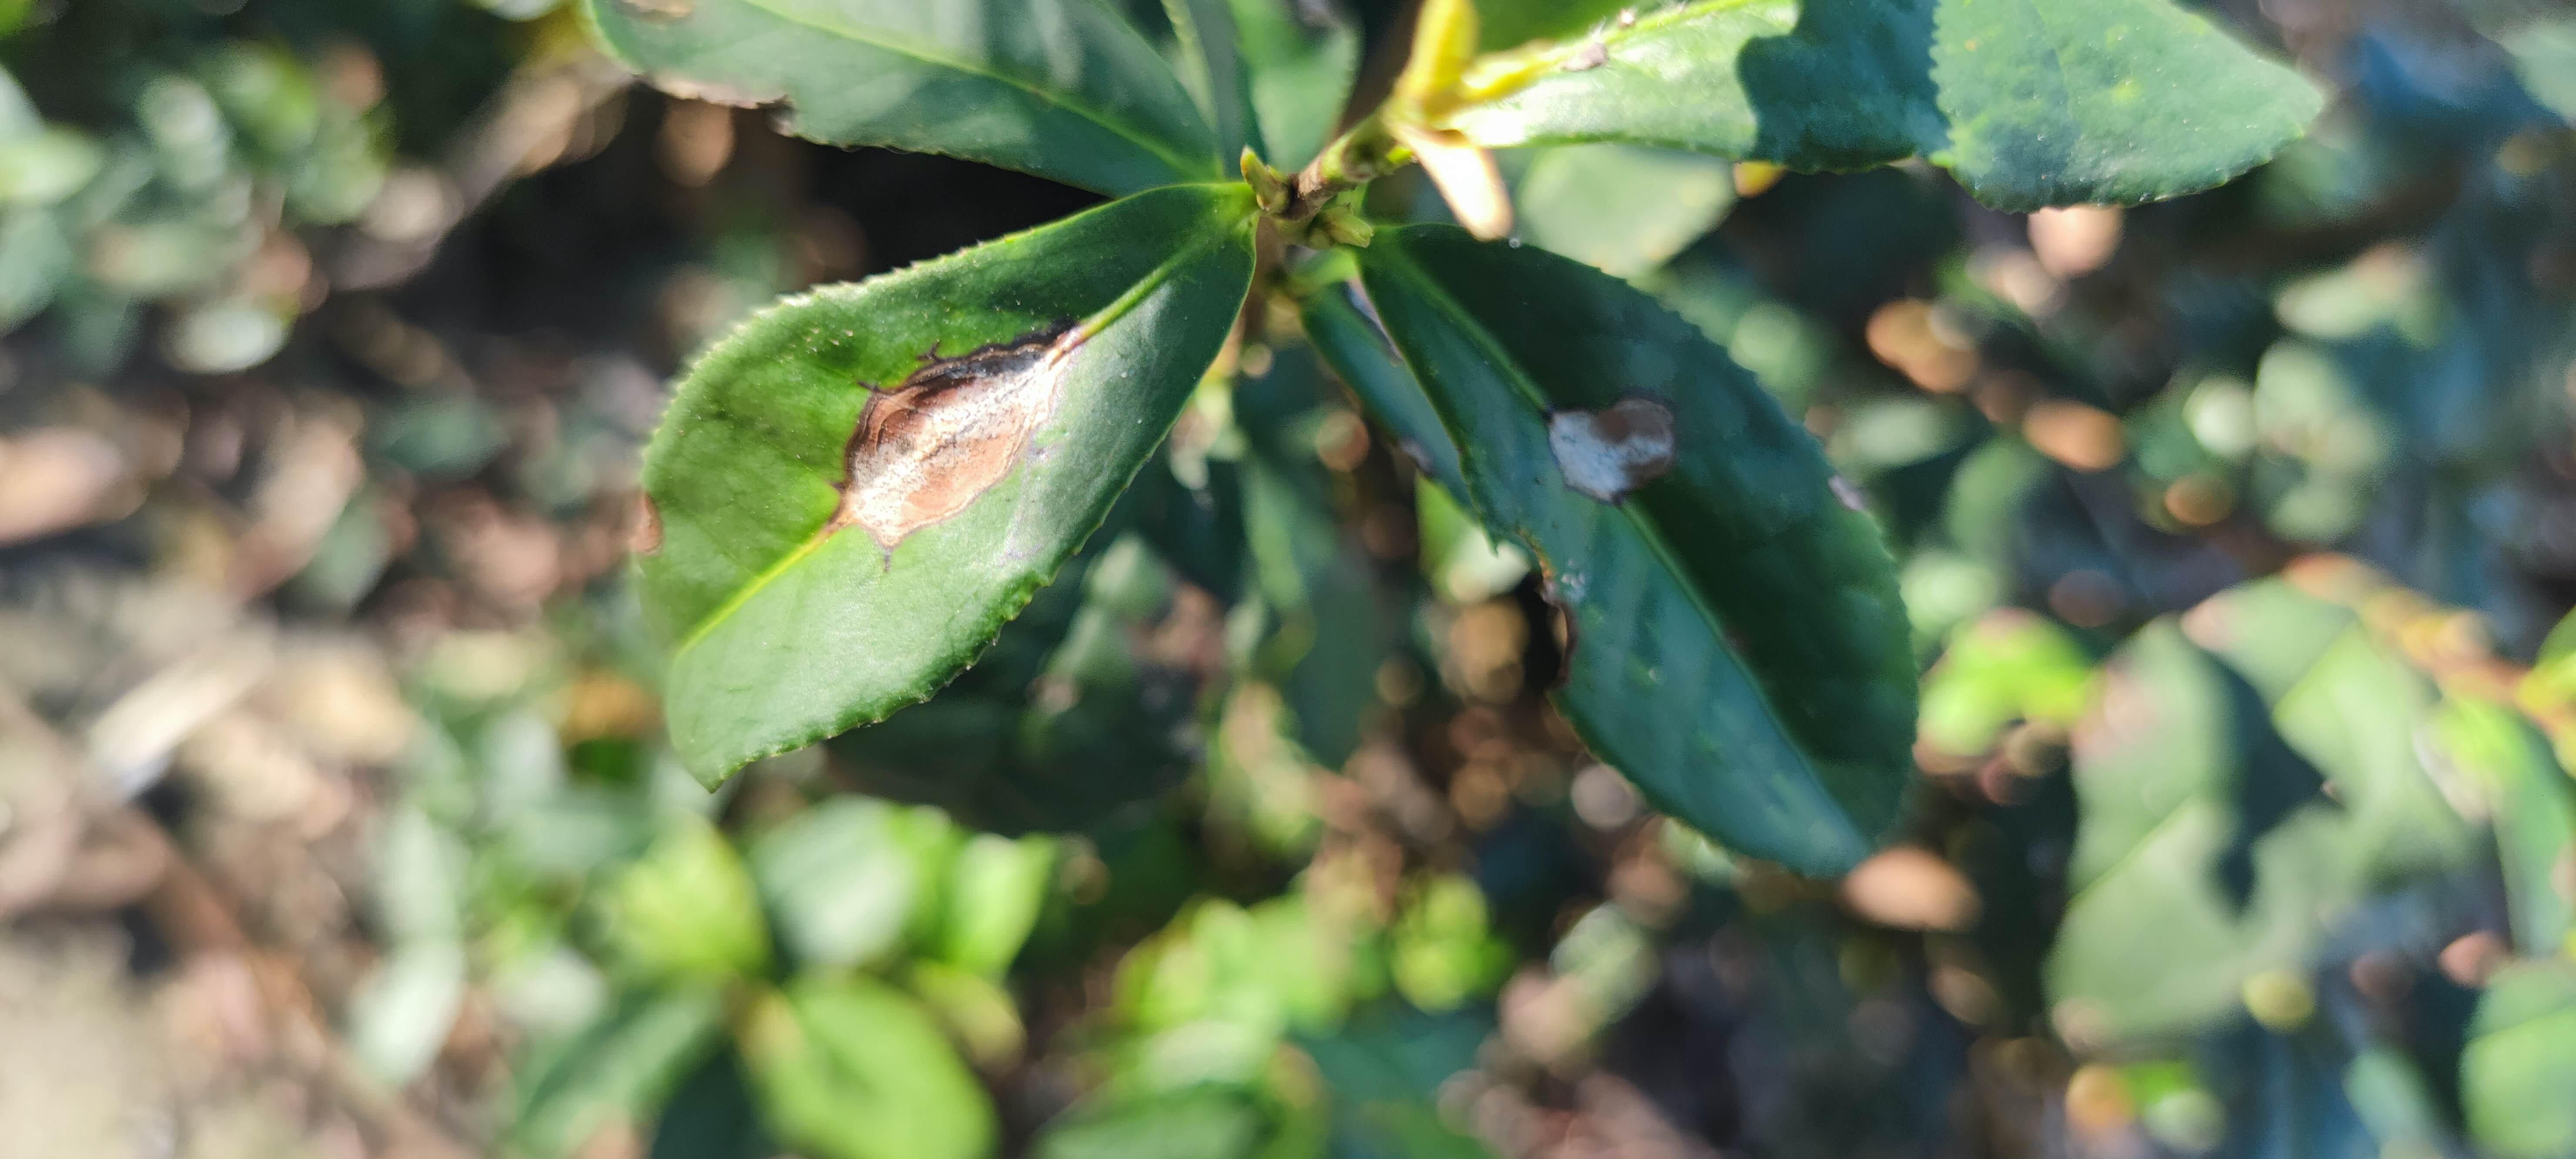tanju_high: (1304, 218, 1920, 886), (629, 179, 1263, 799)
